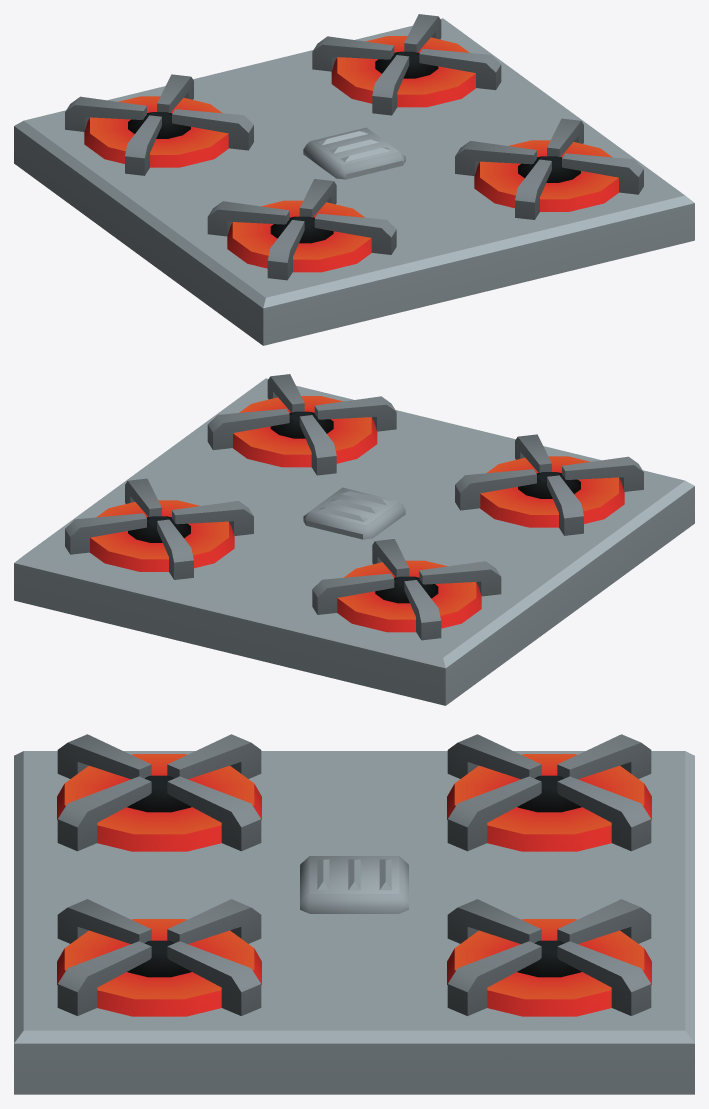
File: stove_multi_countertop.obj
3 renders of one model, top to bottom at view 1: azimuth 30°, elevation 25°; view 2: azimuth 150°, elevation 25°; view 3: azimuth 270°, elevation 25°, orthographic. The views are drawn at different scales.
Visible parts, largest first — view 1: stove_multi_countertop_Cube.425; view 2: stove_multi_countertop_Cube.425; view 3: stove_multi_countertop_Cube.425.
Boxes of the visible parts, x1,y1,x2,y2 form: stove_multi_countertop_Cube.425: (14, 14, 694, 345); stove_multi_countertop_Cube.425: (14, 374, 694, 705); stove_multi_countertop_Cube.425: (14, 734, 694, 1094).
Bounding box in the file's own units: 1.75 × 0.27 × 1.75.
Materials: 1 (1 with a texture image).
